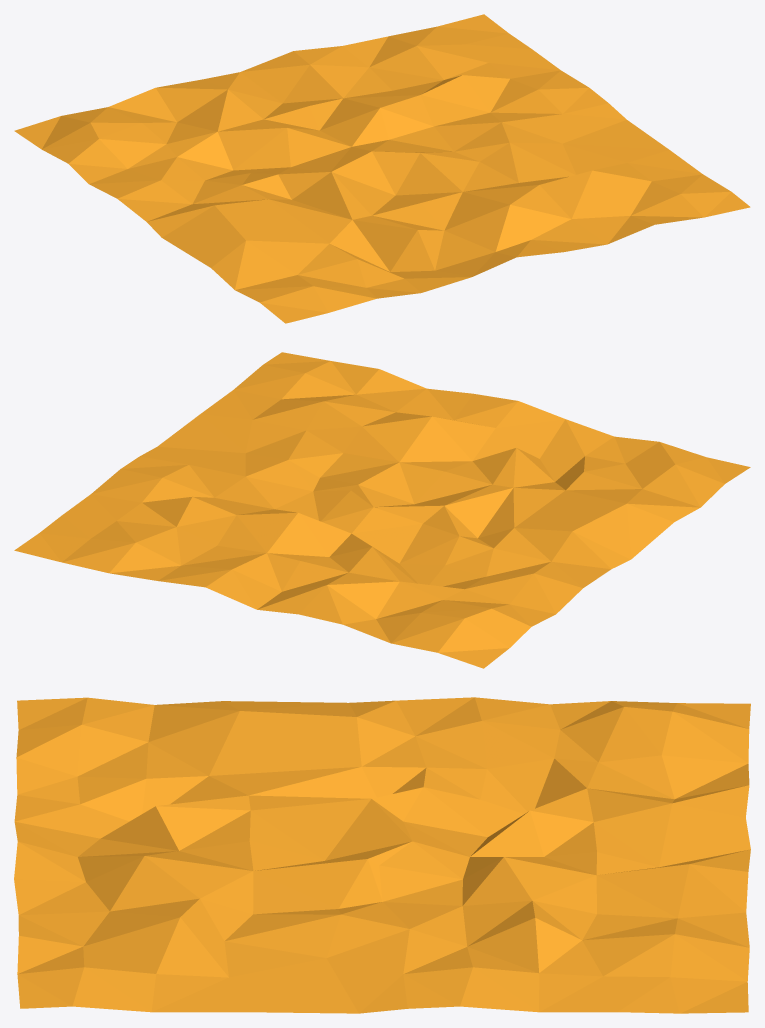
The model's file is SM_Planter_Box_Dirt_2x2m_Farm.fbx.
3 views of the same model, one above another, from view 1: azimuth 30°, elevation 25°; view 2: azimuth 150°, elevation 25°; view 3: azimuth 270°, elevation 25° (orthographic). The views are drawn at different scales.
Parts seen in each view (by area): view 1: planter-box-dirt-2x2m-farm; view 2: planter-box-dirt-2x2m-farm; view 3: planter-box-dirt-2x2m-farm.
Boxes of the visible parts, box(x1,y1,x2,y2) form: planter-box-dirt-2x2m-farm: box(14, 14, 750, 323); planter-box-dirt-2x2m-farm: box(14, 352, 750, 668); planter-box-dirt-2x2m-farm: box(14, 697, 750, 1013).
Size of the model in its own units: 1.91 by 0.1488 by 1.91.
